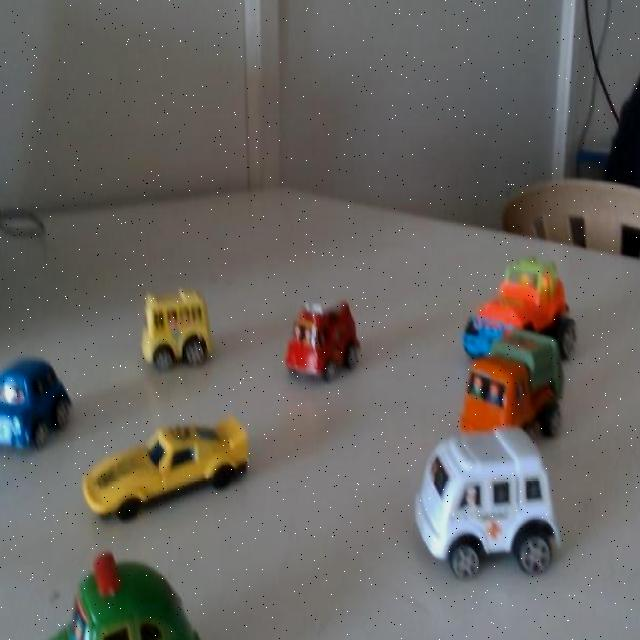car: (389, 407, 547, 602), (97, 407, 233, 532), (453, 252, 543, 366), (19, 572, 169, 640), (281, 283, 364, 402), (128, 284, 220, 387), (466, 320, 538, 448), (0, 356, 54, 453)
